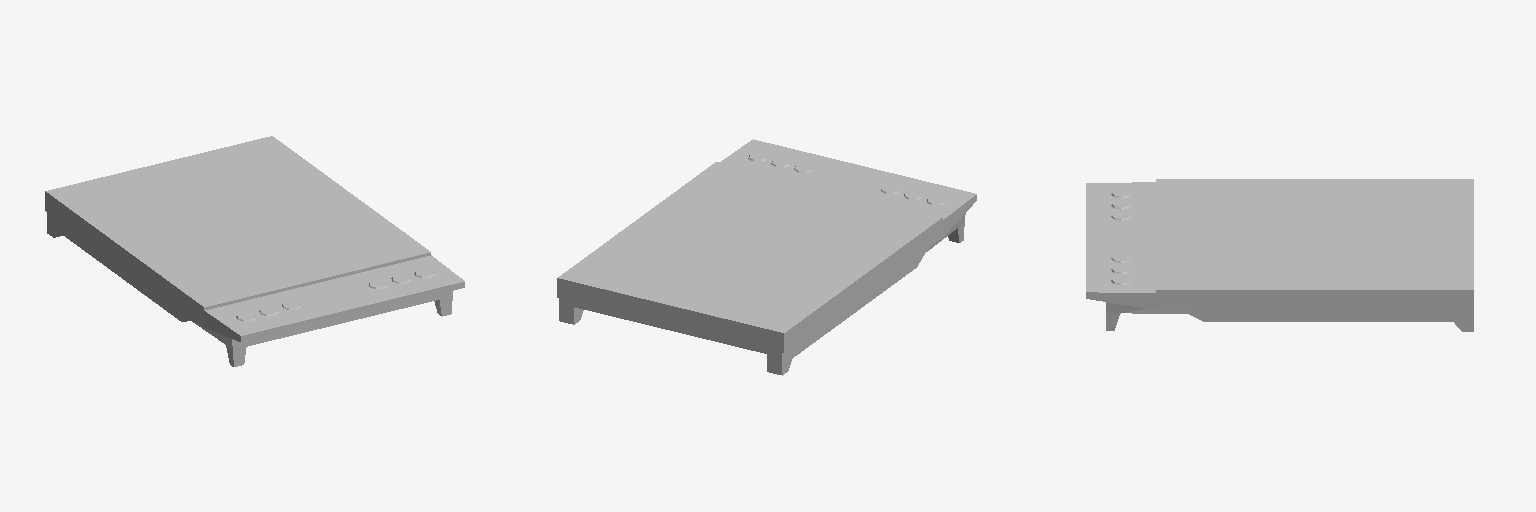
File: appliance_stove_induction.obj
The picture shows the model from 3 angles: view 1: azimuth 30°, elevation 25°; view 2: azimuth 150°, elevation 25°; view 3: azimuth 270°, elevation 25°; orthographic projection.
Visible parts, largest first — view 1: appliance_stove_induction_Cube.263; view 2: appliance_stove_induction_Cube.263; view 3: appliance_stove_induction_Cube.263.
Boxes of the visible parts, x1,y1,x2,y2 form: appliance_stove_induction_Cube.263: [45, 136, 464, 366]; appliance_stove_induction_Cube.263: [557, 139, 976, 375]; appliance_stove_induction_Cube.263: [1086, 179, 1473, 331].
Bounding box in the file's own units: 6.16 × 1.11 × 9.13.